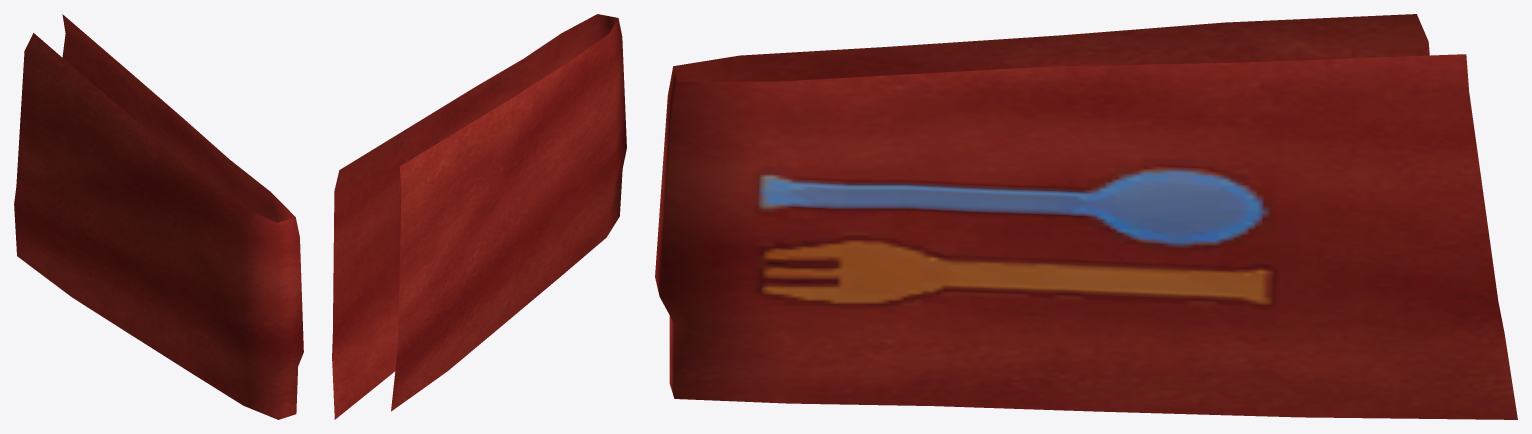
File: nt_2020_towel_kitchen_02_LOD1.obj
The picture shows the model from 3 angles, left to right: view 1: azimuth 30°, elevation 25°; view 2: azimuth 150°, elevation 25°; view 3: azimuth 270°, elevation 25°; orthographic projection. The views are drawn at different scales.
Visible parts, largest first — view 1: mtl_nt_2020_towel_kitchen_02; view 2: mtl_nt_2020_towel_kitchen_02; view 3: mtl_nt_2020_towel_kitchen_02.
Boxes of the visible parts, bbox=[...] form: mtl_nt_2020_towel_kitchen_02: bbox=[14, 14, 303, 419]; mtl_nt_2020_towel_kitchen_02: bbox=[332, 14, 626, 419]; mtl_nt_2020_towel_kitchen_02: bbox=[655, 14, 1517, 419].
Size of the model in its own units: 8.14 by 31.71 by 65.24.
